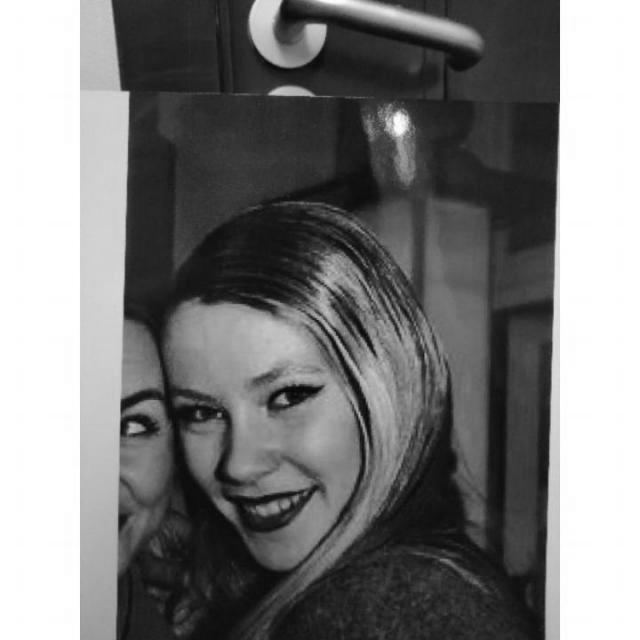fake: (80, 85, 559, 640)
